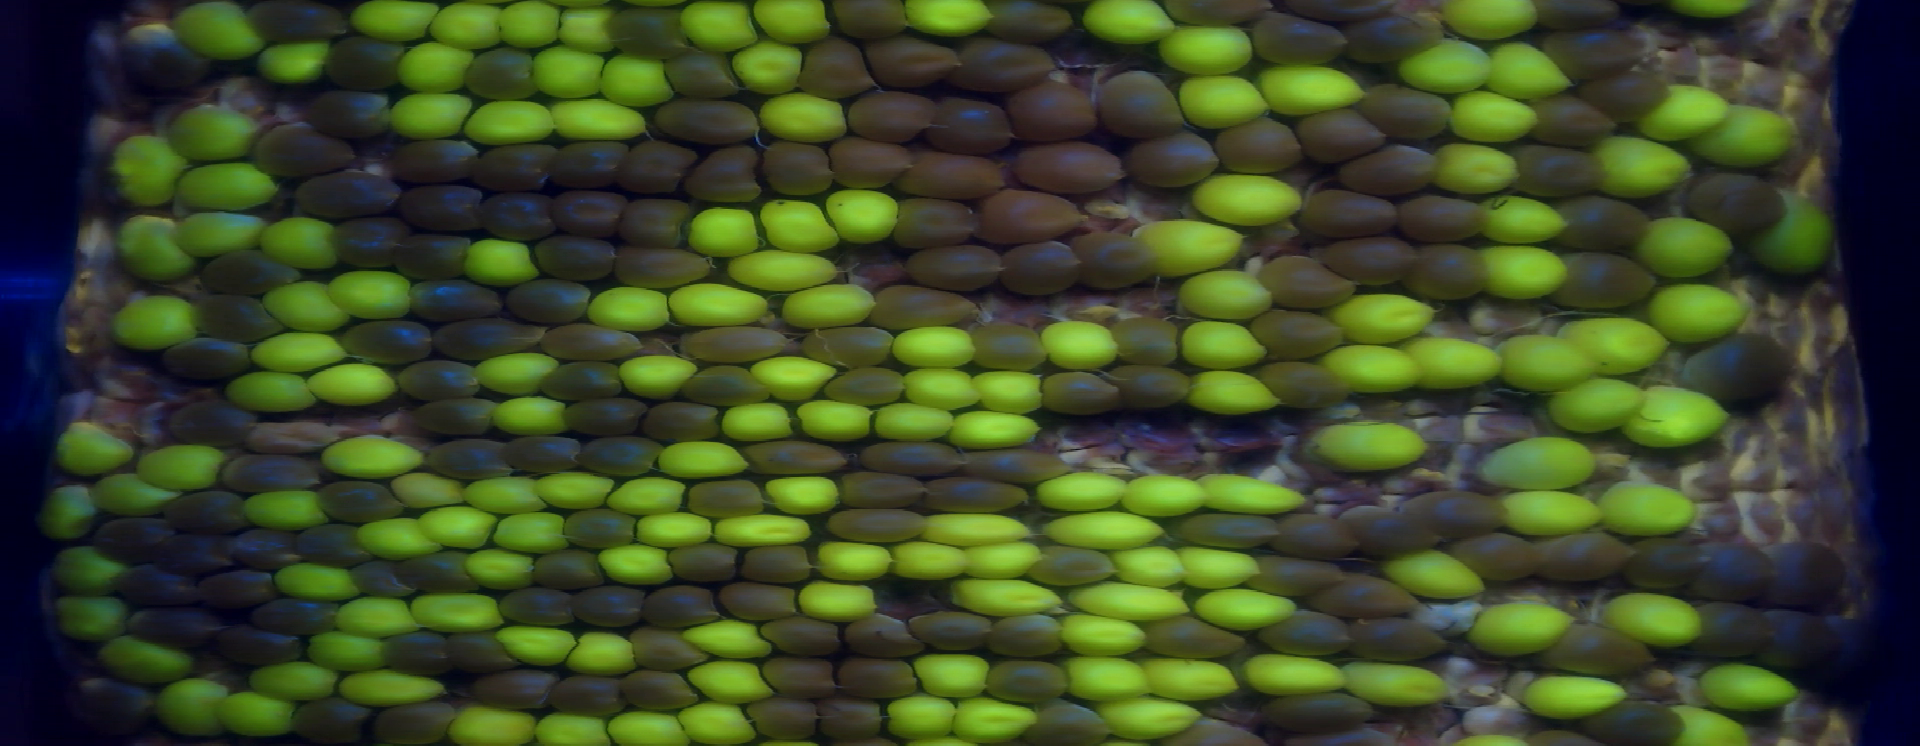fluorescent: (1695, 100, 1800, 168), (1138, 218, 1250, 281), (1647, 274, 1747, 343), (1558, 314, 1671, 374), (1756, 187, 1834, 274), (1622, 383, 1735, 443), (1700, 654, 1810, 713), (1499, 489, 1615, 544), (1251, 58, 1368, 113), (1502, 337, 1604, 398), (1528, 673, 1643, 726), (1337, 661, 1457, 713), (1632, 216, 1734, 276), (1193, 170, 1303, 225), (1479, 439, 1589, 492), (1172, 268, 1278, 323), (1478, 40, 1577, 99), (1548, 372, 1644, 432), (1403, 336, 1509, 391), (1322, 344, 1423, 402), (1070, 576, 1194, 622), (1472, 601, 1573, 658), (1174, 71, 1276, 127), (1198, 468, 1311, 518), (1450, 83, 1543, 145), (1472, 243, 1569, 301), (1607, 593, 1706, 649), (1308, 423, 1433, 467), (105, 137, 189, 203), (1641, 85, 1734, 143), (1333, 292, 1433, 347), (1092, 695, 1204, 744), (1593, 137, 1690, 194), (171, 168, 291, 212), (1398, 40, 1499, 93), (171, 1, 264, 58), (948, 578, 1071, 620), (720, 249, 844, 290), (110, 295, 200, 353), (1607, 479, 1692, 539), (1149, 24, 1259, 71), (1190, 367, 1283, 423), (218, 367, 324, 415), (664, 284, 773, 331), (758, 194, 842, 254), (302, 360, 403, 410), (1141, 657, 1244, 706), (889, 326, 997, 372), (754, 92, 849, 145), (87, 637, 193, 684), (149, 677, 239, 733), (1173, 537, 1260, 593), (1244, 650, 1352, 696), (1041, 507, 1151, 551), (113, 216, 193, 276), (236, 488, 339, 534), (1053, 612, 1158, 658), (1032, 320, 1120, 374), (324, 268, 413, 322), (948, 698, 1047, 746), (169, 111, 263, 162), (578, 285, 680, 332), (1382, 555, 1493, 598), (381, 38, 473, 89), (51, 589, 138, 643), (317, 437, 422, 481), (388, 94, 482, 143), (133, 443, 233, 490), (471, 345, 563, 396), (547, 98, 649, 143), (273, 559, 369, 606), (266, 277, 351, 330), (467, 97, 553, 148), (525, 44, 607, 98), (915, 510, 1033, 546), (339, 671, 458, 708), (1435, 145, 1520, 196), (948, 410, 1048, 453), (1119, 473, 1211, 519), (86, 469, 182, 513), (678, 1, 760, 53), (909, 653, 997, 701), (1178, 325, 1273, 369), (1480, 196, 1566, 245), (267, 214, 338, 273), (251, 328, 358, 367), (587, 545, 678, 590), (887, 538, 978, 583), (792, 390, 871, 442), (1087, 1, 1180, 45), (34, 488, 104, 546), (1064, 657, 1160, 699), (1030, 472, 1130, 512), (492, 393, 573, 443), (249, 660, 349, 701), (749, 1, 836, 48), (408, 593, 504, 635), (686, 620, 785, 660), (1193, 590, 1298, 628), (683, 658, 771, 703), (672, 699, 760, 745), (351, 516, 444, 559), (58, 423, 135, 474), (778, 284, 876, 325), (427, 1, 506, 51), (733, 43, 808, 96), (220, 690, 302, 737), (598, 55, 673, 107), (828, 191, 902, 243), (618, 353, 697, 402), (1438, 1, 1542, 38), (460, 238, 542, 284), (418, 506, 500, 552), (493, 624, 578, 668), (443, 704, 533, 746), (336, 598, 426, 638), (560, 628, 638, 675), (1109, 543, 1189, 588), (1663, 704, 1749, 746), (487, 510, 571, 552), (814, 541, 898, 584), (710, 514, 818, 548), (686, 205, 758, 254), (972, 371, 1048, 418), (553, 2, 622, 54), (171, 216, 271, 251), (493, 1, 563, 51), (902, 1, 996, 38), (355, 1, 440, 42), (718, 401, 797, 443), (764, 473, 844, 516), (535, 472, 620, 511), (48, 548, 125, 590), (307, 631, 400, 666), (463, 477, 550, 514), (751, 358, 839, 394), (658, 440, 746, 477), (905, 367, 984, 408), (798, 578, 878, 619), (877, 401, 951, 443), (958, 541, 1051, 576), (609, 477, 691, 514), (256, 40, 331, 82), (610, 707, 683, 746), (533, 709, 609, 746), (633, 511, 715, 544), (469, 552, 538, 592), (396, 472, 463, 505), (1674, 1, 1753, 17)
nonfluorescent: (1682, 341, 1805, 404), (1545, 198, 1660, 257), (899, 145, 1011, 203), (972, 187, 1082, 247), (1537, 619, 1658, 673), (1098, 71, 1195, 138), (1305, 570, 1428, 622), (118, 23, 212, 91), (1693, 171, 1783, 243), (1333, 500, 1449, 555), (1822, 610, 1898, 693), (942, 33, 1058, 87), (655, 94, 774, 147), (1562, 247, 1659, 311), (1004, 80, 1100, 142), (1250, 10, 1353, 67), (864, 31, 962, 91), (1442, 527, 1551, 581), (1258, 356, 1356, 415), (1762, 541, 1851, 605), (1569, 62, 1671, 118), (1536, 24, 1646, 75), (1018, 145, 1130, 194), (1291, 108, 1389, 164), (1145, 611, 1260, 659), (1516, 141, 1611, 198), (1764, 608, 1842, 679), (864, 281, 973, 331), (1534, 530, 1637, 583), (1259, 251, 1360, 304), (1248, 304, 1344, 359), (927, 93, 1018, 152), (1343, 616, 1460, 661), (295, 174, 408, 220), (1127, 134, 1223, 187), (847, 89, 942, 145), (684, 137, 762, 205), (1325, 233, 1416, 289), (1408, 241, 1493, 301), (73, 676, 171, 728), (793, 38, 877, 98), (678, 321, 798, 363), (758, 137, 836, 201), (860, 437, 972, 481), (460, 47, 541, 108), (1258, 604, 1358, 653), (1693, 544, 1787, 597), (1293, 187, 1398, 234), (882, 191, 975, 244), (611, 136, 698, 192), (1343, 13, 1445, 61), (324, 37, 414, 91), (193, 249, 302, 293), (189, 292, 287, 341), (1213, 122, 1307, 174), (437, 316, 540, 363), (255, 126, 360, 171), (1337, 145, 1439, 191), (542, 317, 647, 363), (613, 243, 720, 287), (1166, 511, 1288, 549), (1067, 236, 1160, 285), (831, 655, 924, 704), (1531, 93, 1619, 145), (156, 334, 258, 379), (1392, 195, 1487, 243), (400, 183, 487, 234), (823, 136, 909, 187), (165, 399, 260, 446), (920, 472, 1031, 511), (1273, 507, 1360, 557), (1033, 369, 1127, 415), (311, 478, 402, 526), (302, 91, 398, 136), (1109, 361, 1191, 414), (1360, 85, 1449, 134), (961, 443, 1071, 483), (241, 2, 351, 42), (1592, 701, 1686, 746), (1242, 548, 1340, 590), (332, 219, 411, 272), (110, 563, 211, 605), (751, 652, 838, 699), (744, 441, 857, 478), (638, 581, 722, 630), (399, 279, 504, 318), (609, 5, 691, 55), (217, 452, 321, 491), (508, 277, 595, 323), (824, 503, 931, 541), (1696, 601, 1772, 654), (1004, 244, 1084, 294), (475, 190, 561, 236), (1629, 540, 1709, 589), (682, 360, 771, 404), (348, 317, 435, 363), (474, 141, 556, 189), (549, 186, 628, 235), (160, 488, 249, 532), (986, 1, 1071, 47), (397, 548, 480, 594), (551, 137, 628, 187), (913, 245, 1005, 287), (620, 664, 702, 710), (835, 472, 932, 511), (1111, 315, 1188, 364), (549, 674, 629, 720), (987, 657, 1065, 704), (473, 668, 560, 710), (294, 701, 378, 745), (217, 624, 301, 668), (1403, 495, 1504, 532), (375, 628, 452, 676), (539, 356, 624, 399), (803, 322, 891, 364), (1156, 714, 1271, 746), (813, 696, 894, 741), (186, 571, 285, 608), (909, 608, 996, 649), (373, 703, 460, 745), (1029, 701, 1108, 746), (560, 394, 651, 434), (970, 323, 1051, 367), (689, 477, 770, 521), (628, 628, 707, 674), (1266, 695, 1378, 726), (662, 50, 740, 96), (760, 616, 846, 657), (718, 579, 802, 620), (747, 695, 816, 744), (250, 594, 336, 633), (158, 530, 234, 575), (501, 435, 591, 472), (847, 619, 924, 661), (398, 363, 485, 401), (738, 544, 819, 584), (535, 233, 613, 274), (638, 401, 721, 440), (102, 516, 180, 557), (392, 235, 475, 274), (571, 586, 647, 628), (617, 195, 687, 241), (1032, 545, 1120, 582), (414, 397, 502, 434), (574, 439, 665, 474), (498, 586, 580, 625), (564, 506, 638, 549), (132, 608, 220, 643), (300, 526, 382, 563), (536, 548, 609, 590), (986, 615, 1062, 655), (833, 364, 906, 405), (828, 1, 912, 37), (440, 633, 516, 673), (431, 441, 514, 477), (664, 545, 740, 582), (234, 524, 299, 567), (1157, 1, 1273, 23), (351, 557, 414, 597), (1538, 1, 1625, 28)
